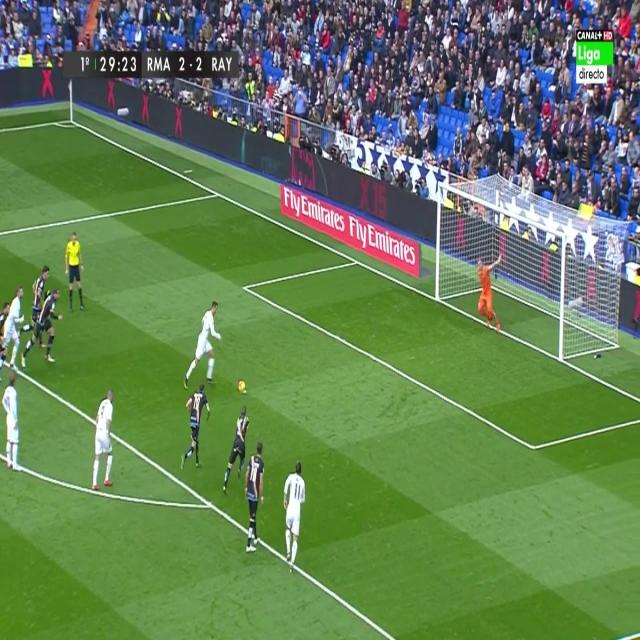Ball: (236, 376, 248, 398)
Goalkeeper: (477, 250, 505, 336)
Player: (182, 302, 224, 394), (280, 458, 308, 576), (20, 288, 63, 364), (179, 384, 213, 473), (220, 404, 250, 499), (92, 385, 118, 494), (244, 439, 266, 560), (2, 372, 23, 478), (2, 284, 26, 369), (22, 264, 49, 332)
Referee: (63, 232, 87, 316)
